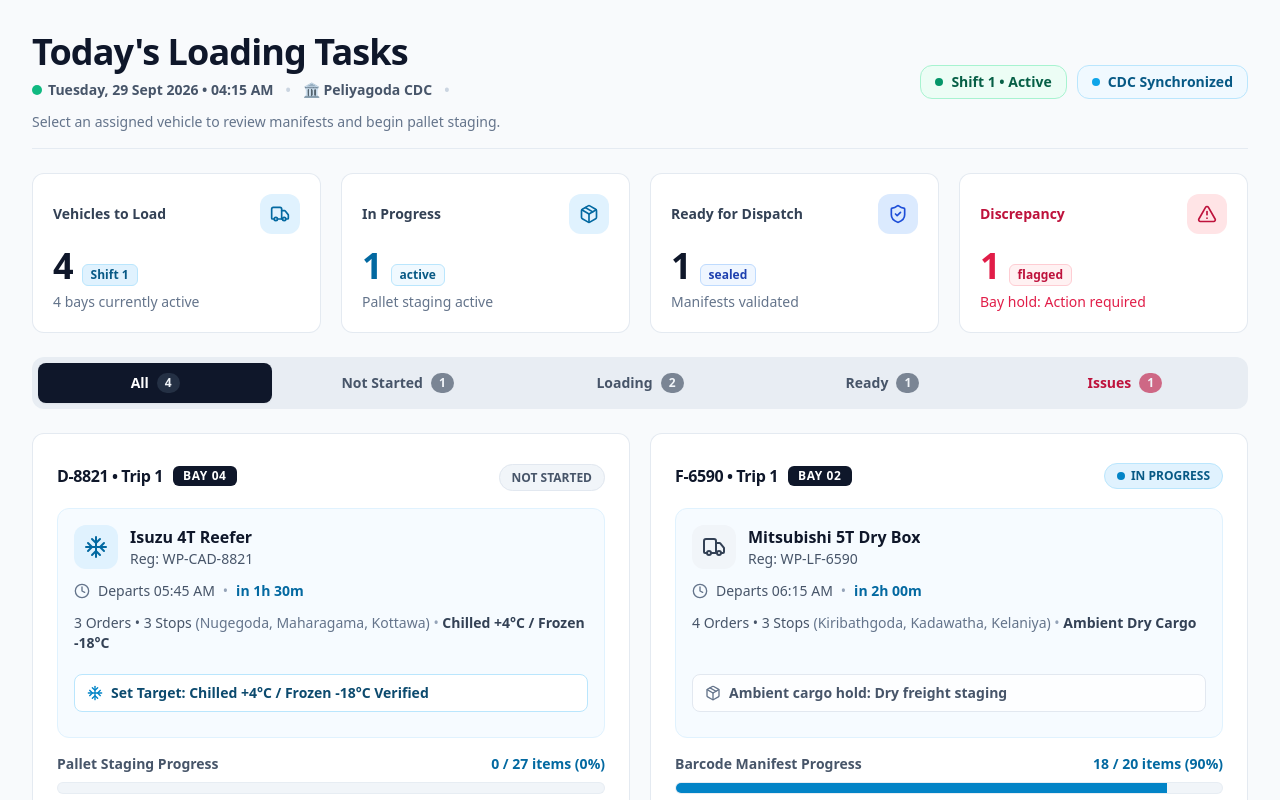
Test: Loader Portal: Responsive UX & Interaction Stabilization › 1. filters tasks specifically by Issues filter tab
Expected: the heading "Today's Loading Tasks" is shown, 32,27 -> 408,76
What coordinates should you click on to do the following:
click the button with id "filter-issues"
I would click on:
 (1125, 383)
Its box is 1008,363 -> 1242,403.
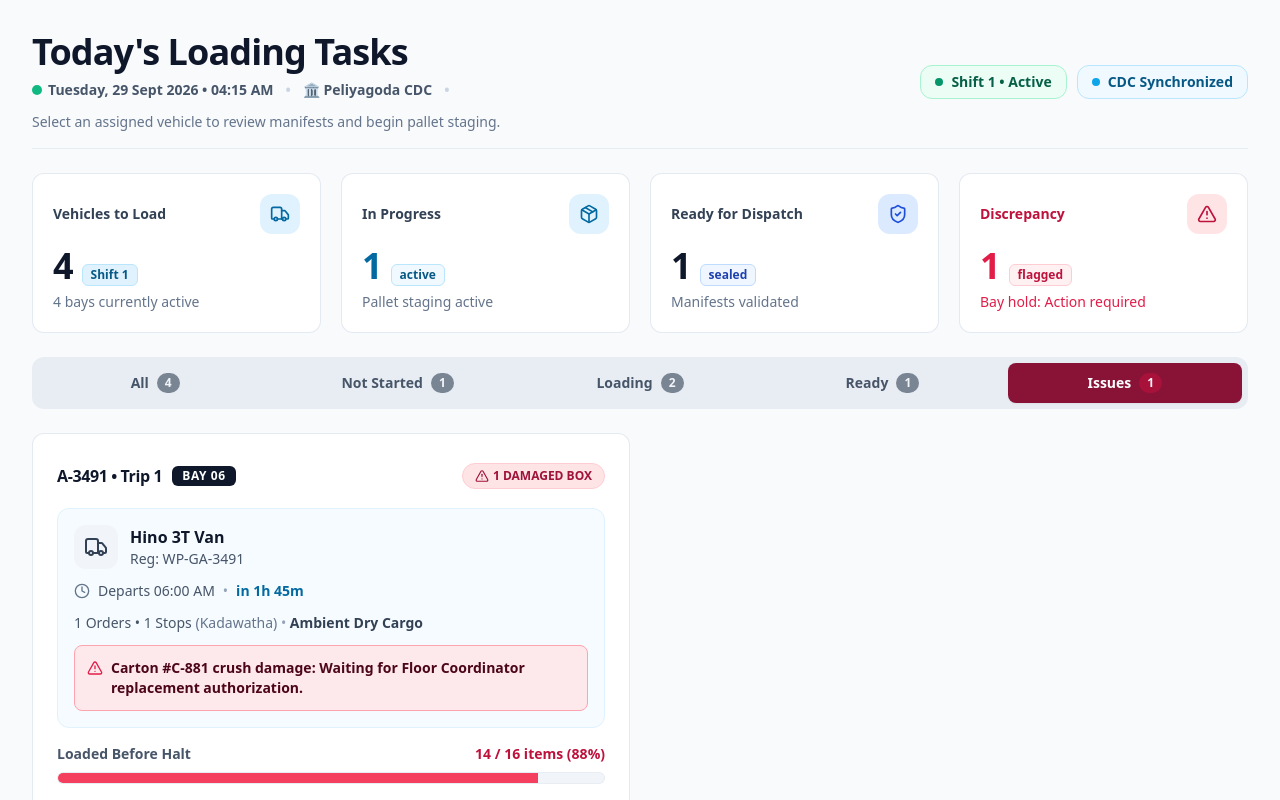
Expected: the heading "Hino 3T Van" is shown, 130,525 -> 224,549
Expected: the heading "Isuzu 4T Reefer" is gone
